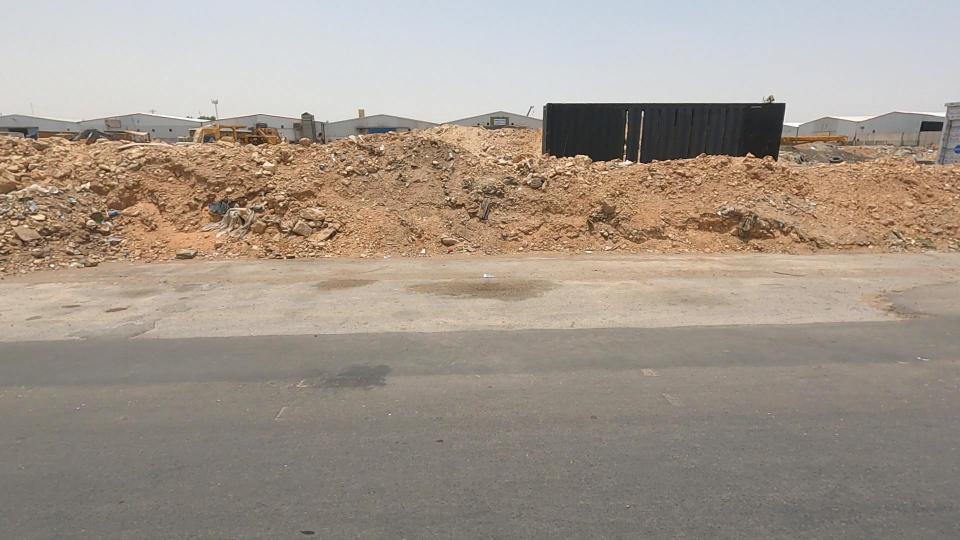GARBAGE: (155, 170, 302, 276), (426, 170, 534, 249), (72, 190, 152, 247), (0, 178, 68, 245), (40, 174, 96, 227)
